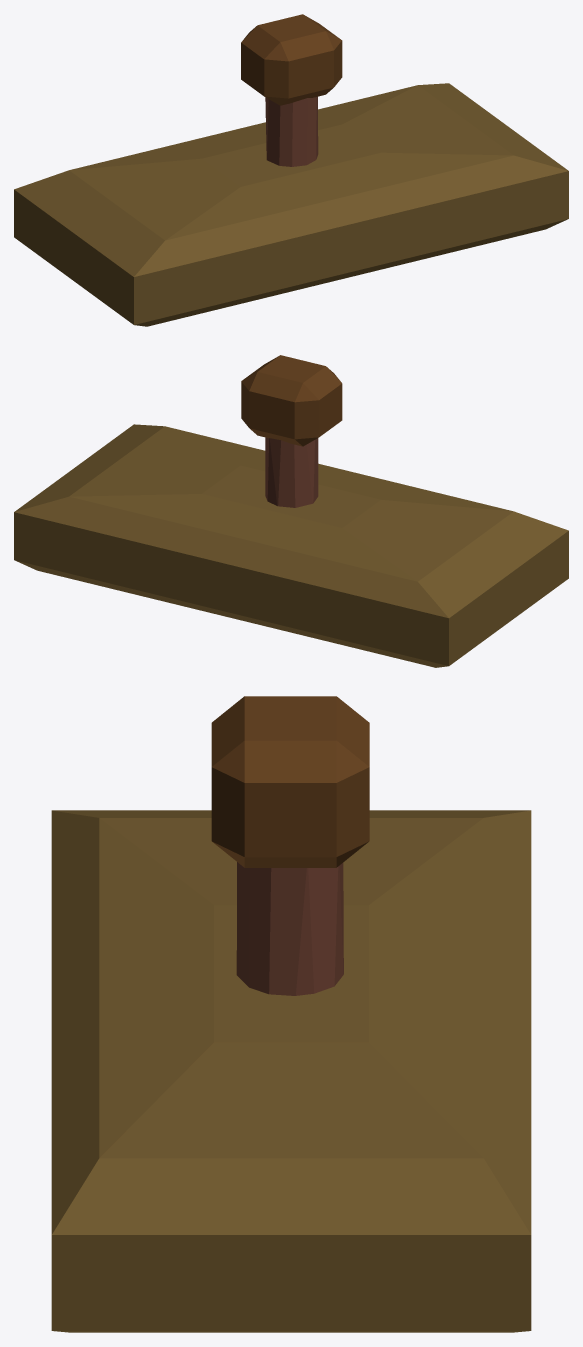
Rendered from NewStamp.fbx.
3 renders of one model, top to bottom at view 1: azimuth 30°, elevation 25°; view 2: azimuth 150°, elevation 25°; view 3: azimuth 270°, elevation 25°, orthographic. The views are drawn at different scales.
Parts seen in each view (by area): view 1: Stamp, Handle; view 2: Stamp, Handle; view 3: Stamp, Handle.
Part boxes in pixels (x1,y1,x2,y2): Stamp: (14, 83, 568, 326); Handle: (241, 14, 342, 166); Stamp: (14, 424, 568, 667); Handle: (241, 355, 342, 507); Stamp: (51, 810, 531, 1332); Handle: (211, 696, 369, 995).
Size of the model in its own units: 176 by 81.13 by 84.
